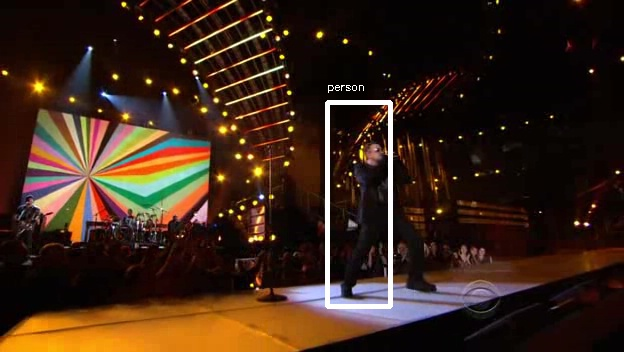person: (351, 139, 413, 249), (348, 139, 410, 249), (354, 139, 416, 249), (351, 136, 413, 246), (351, 142, 413, 252)
target_negative: (188, 66, 325, 327), (94, 54, 521, 113), (182, 85, 261, 319), (553, 135, 624, 267), (196, 307, 464, 322), (179, 311, 507, 315)
